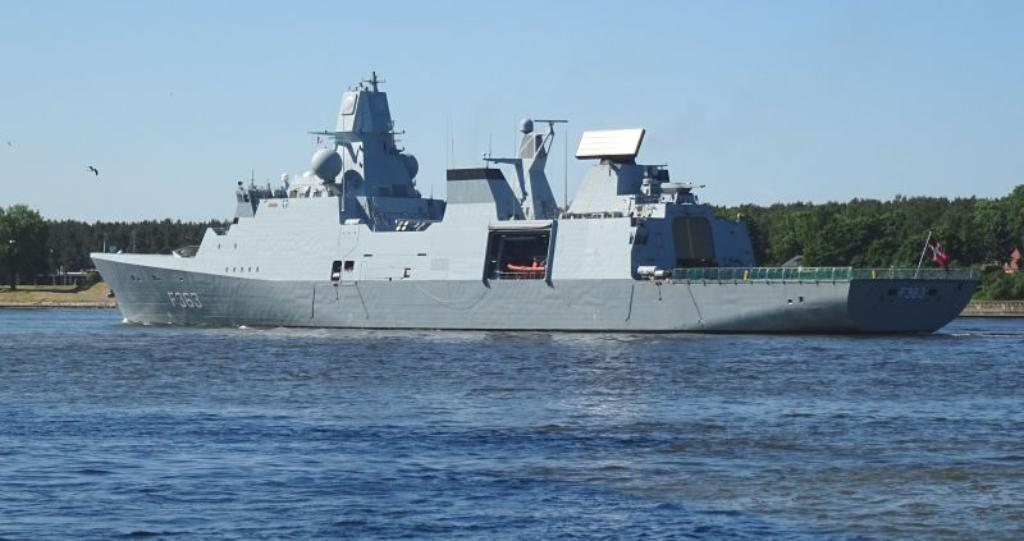Warship: (86, 70, 988, 334)
